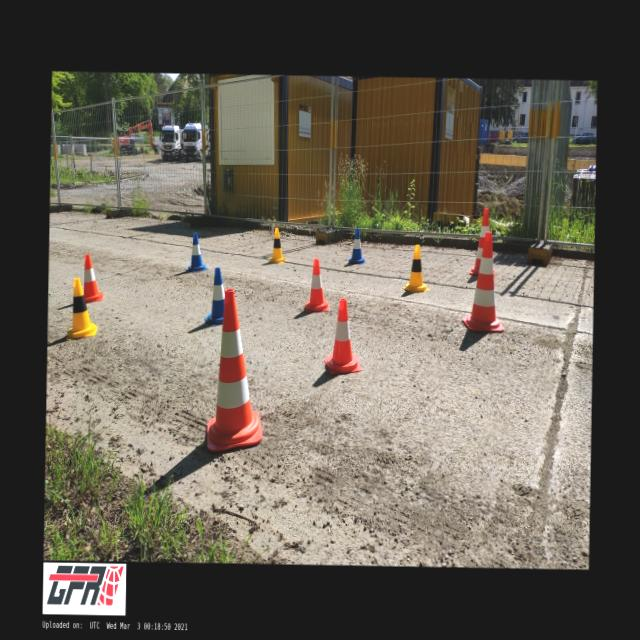blue_cone: (204, 267, 225, 326), (185, 232, 208, 272), (348, 228, 366, 264)
large_orange_cone: (206, 288, 264, 452), (462, 232, 505, 332), (469, 208, 496, 276)
orange_cone: (324, 298, 362, 374), (304, 258, 328, 311), (83, 254, 103, 302)
yellow_cone: (66, 278, 98, 340), (402, 244, 430, 292), (268, 228, 288, 264)
